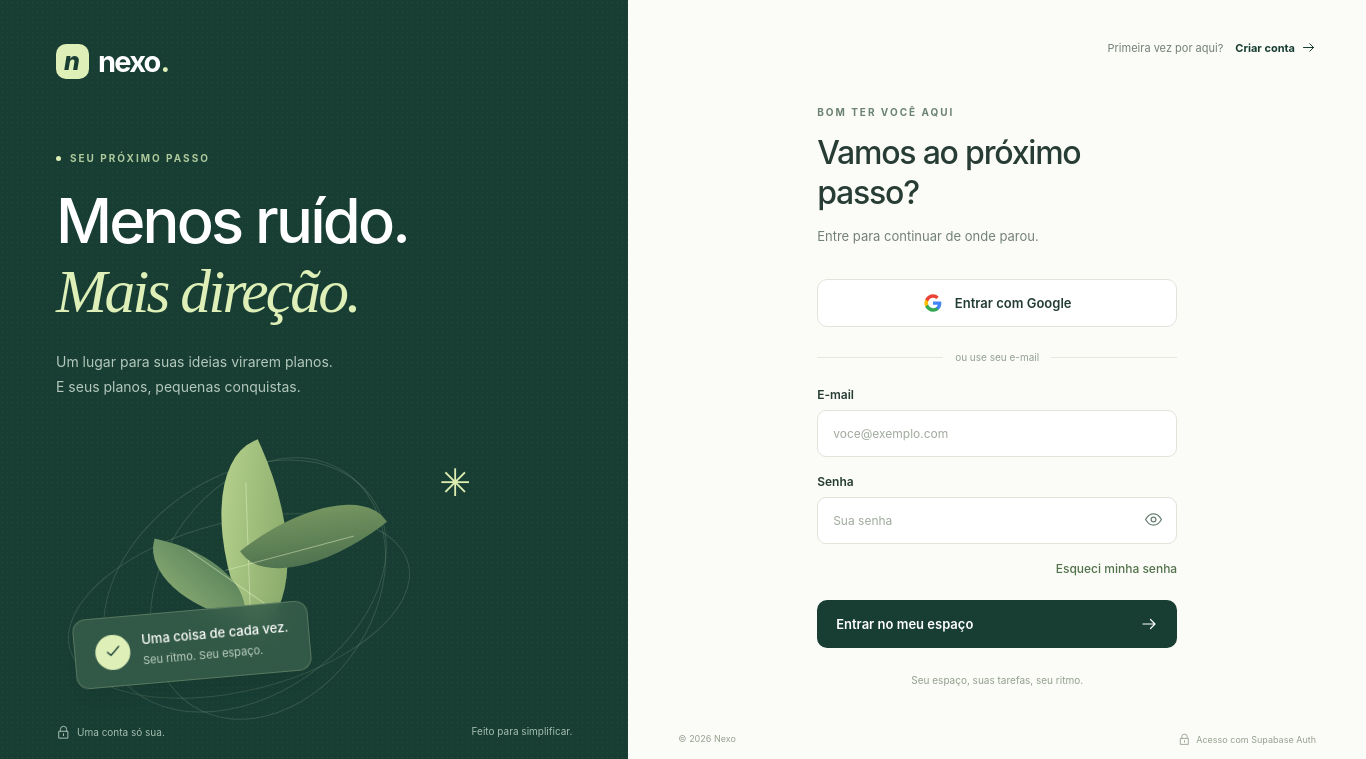
Scenario: interfaces de autenticação › envia Google com redirectTo autorizado e mostra erro sem perder o formulário
The image size is (1366, 759).
Click the button "Entrar com Google" at (997, 303), box [817, 279, 1177, 327]
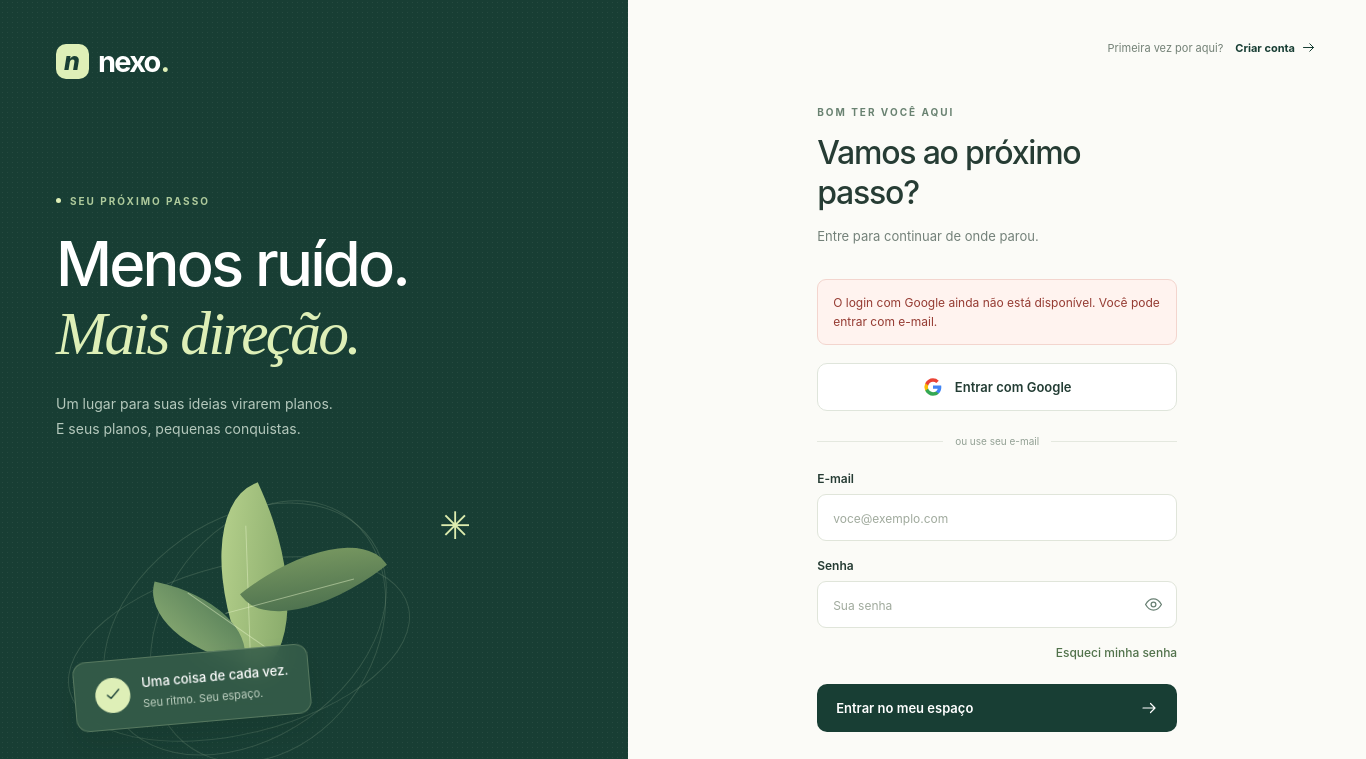
Check: the field labelled "E-mail" is shown, box [817, 494, 1177, 541]
Check: the message shows "Google ainda não está disponível", box [833, 295, 1160, 329]
